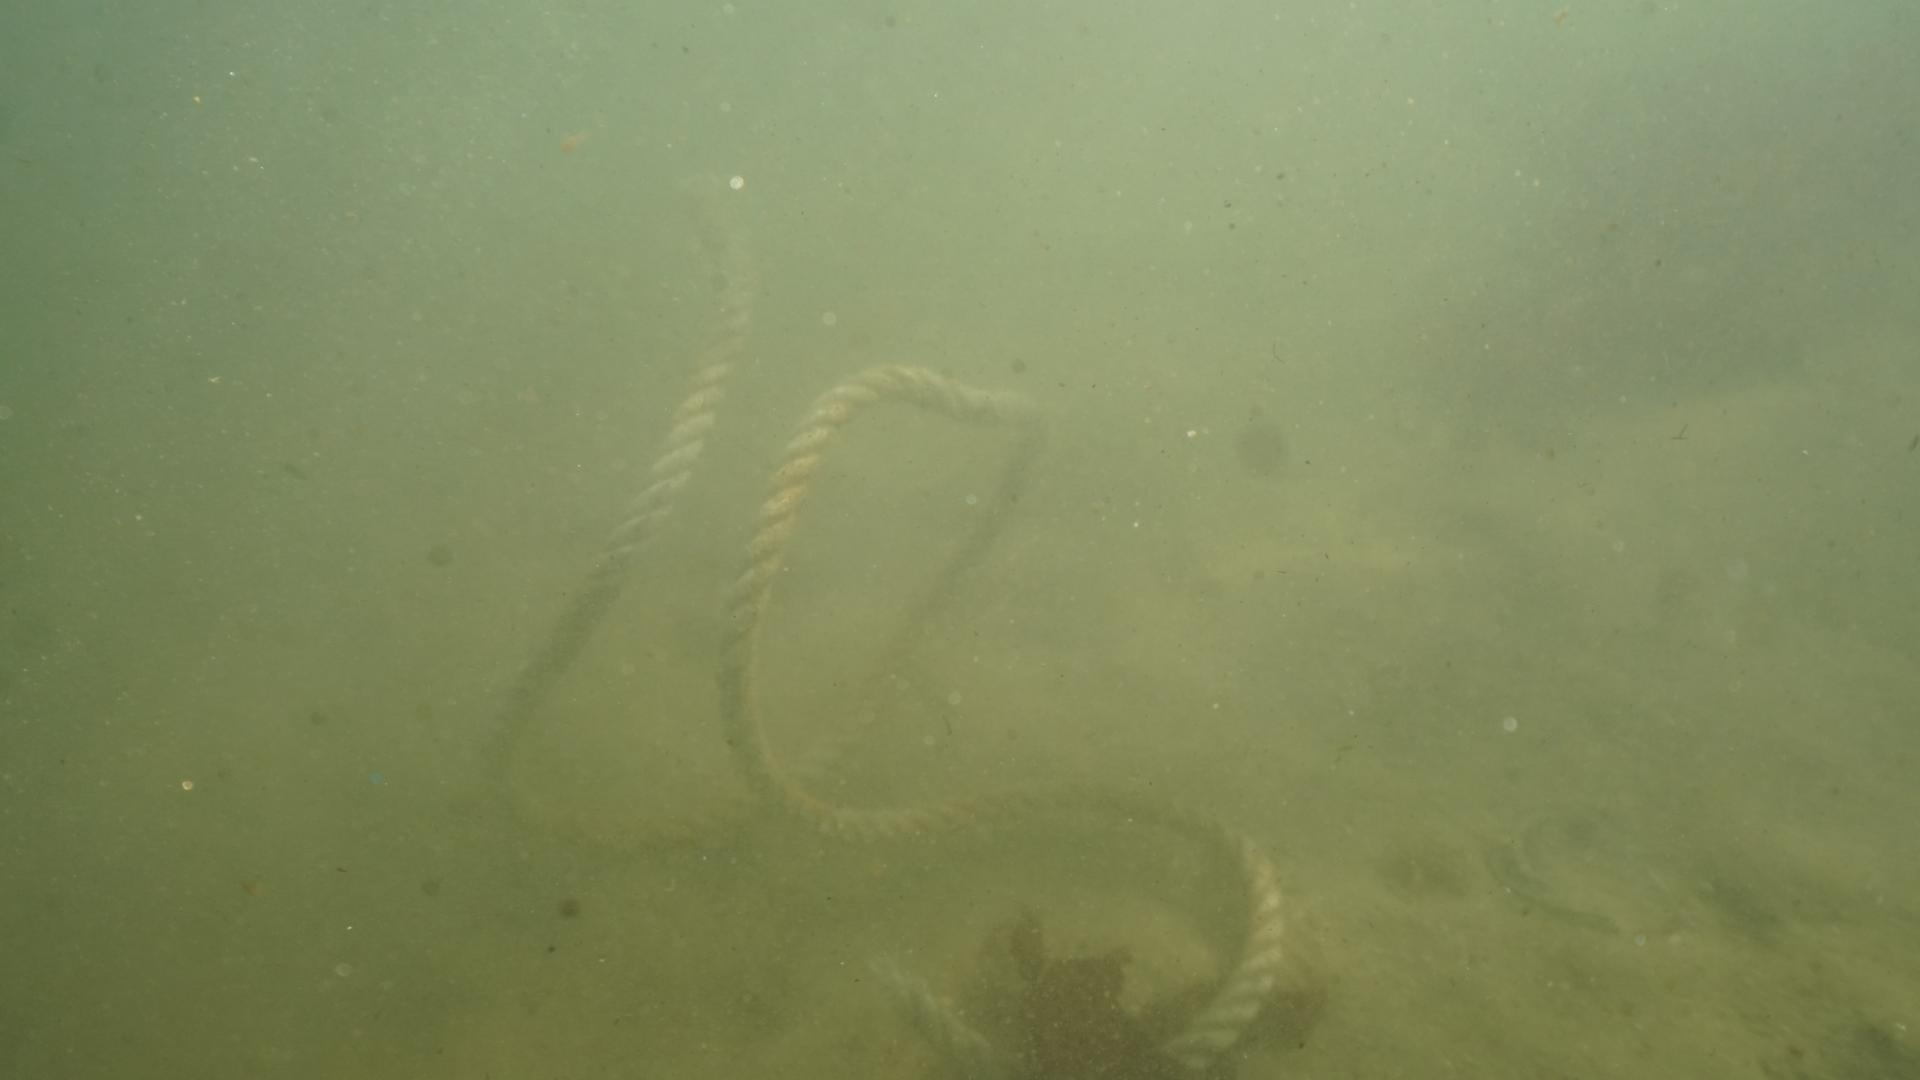rope: (483, 167, 1287, 1077)
